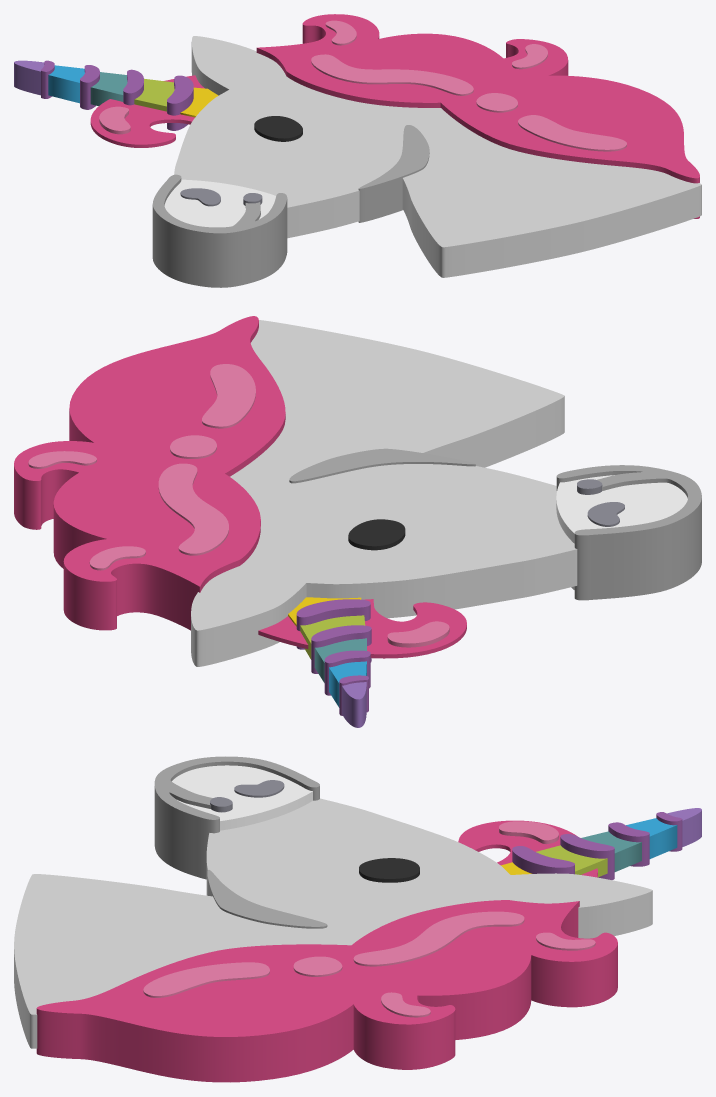
Rendered from emoji_u1f984.glb.
3 renders of one model, top to bottom at view 1: azimuth 30°, elevation 25°; view 2: azimuth 150°, elevation 25°; view 3: azimuth 270°, elevation 25°, orthographic. The views are drawn at different scales.
Visible parts, largest first — view 1: emoji_u1f984; view 2: emoji_u1f984; view 3: emoji_u1f984.
Boxes of the visible parts, bbox=[...] form: emoji_u1f984: bbox=[14, 14, 701, 287]; emoji_u1f984: bbox=[14, 316, 701, 727]; emoji_u1f984: bbox=[14, 756, 701, 1082].
Bounding box in the file's own units: 0.0309 × 0.0034 × 0.033.
